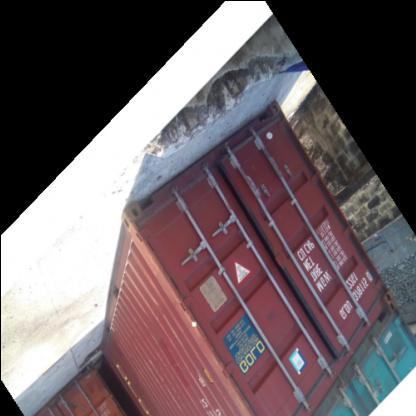Damage: (168, 283, 246, 398)
